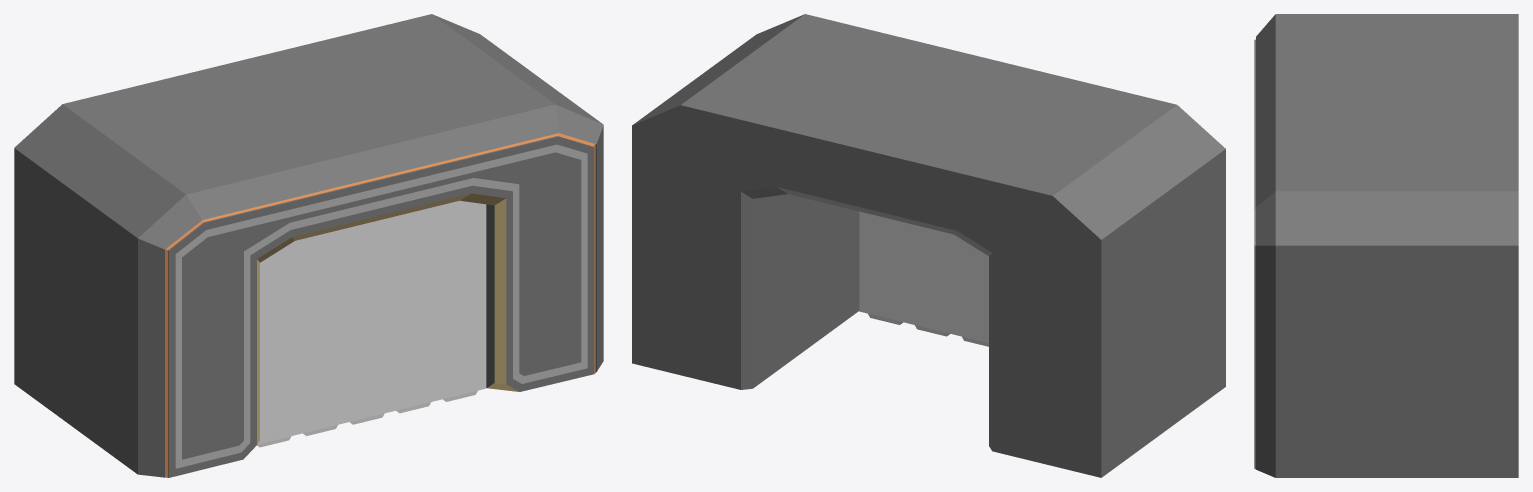
File: RingDoor2.fbx
The picture shows the model from 3 angles, left to right: view 1: azimuth 30°, elevation 25°; view 2: azimuth 150°, elevation 25°; view 3: azimuth 270°, elevation 25°; orthographic projection. The views are drawn at different scales.
Visible parts, largest first — view 1: Cube.002, Cube; view 2: Cube.002, Cube; view 3: Cube.002.
Part boxes in pixels (x1=…): Cube.002: x1=14, y1=14, x2=603, y2=477; Cube: x1=257, y1=200, x2=486, y2=447; Cube.002: x1=632, y1=14, x2=1225, y2=477; Cube: x1=859, y1=211, x2=988, y2=346; Cube.002: x1=1254, y1=14, x2=1518, y2=477.
Bounding box in the file's own units: 400 × 225 × 200.
